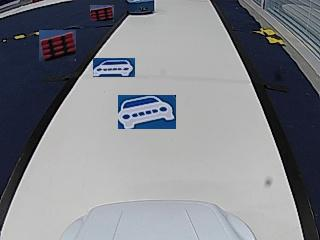prop: (128, 0, 154, 15)
